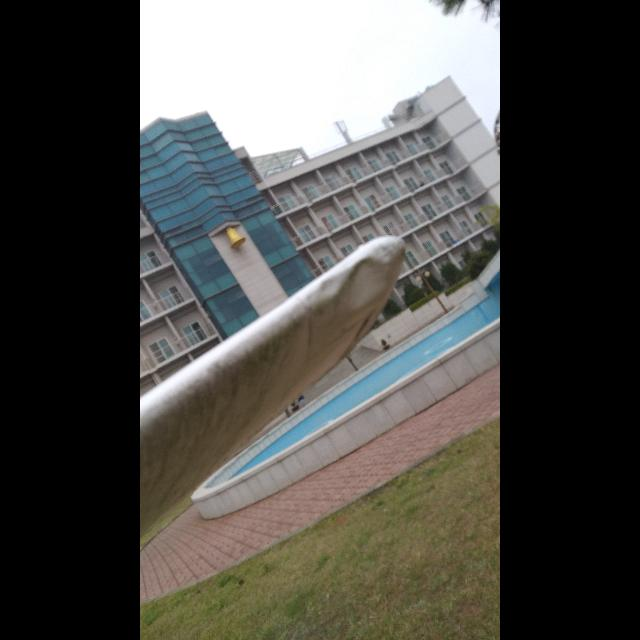dent: (341, 253, 393, 314), (316, 270, 348, 300)
